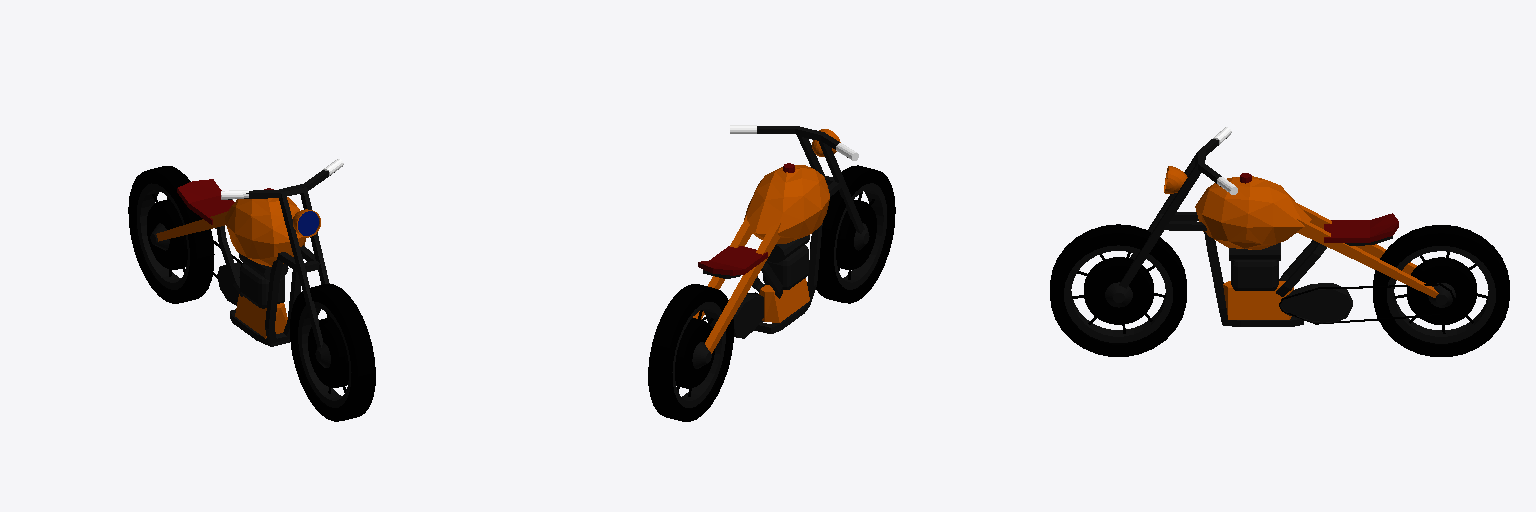
Rendered from Motorcycle_1388.obj.
3 renders of one model, left to right at view 1: azimuth 30°, elevation 25°; view 2: azimuth 150°, elevation 25°; view 3: azimuth 270°, elevation 25°, orthographic.
Parts seen in each view (by area): view 1: Tube004; view 2: Tube004; view 3: Tube004.
Boxes of the visible parts, <box> form: Tube004: <box>128,159,375,421</box>; Tube004: <box>648,125,895,421</box>; Tube004: <box>1050,127,1509,356</box>.
Size of the model in its own units: 15.76 by 23.7 by 49.97.